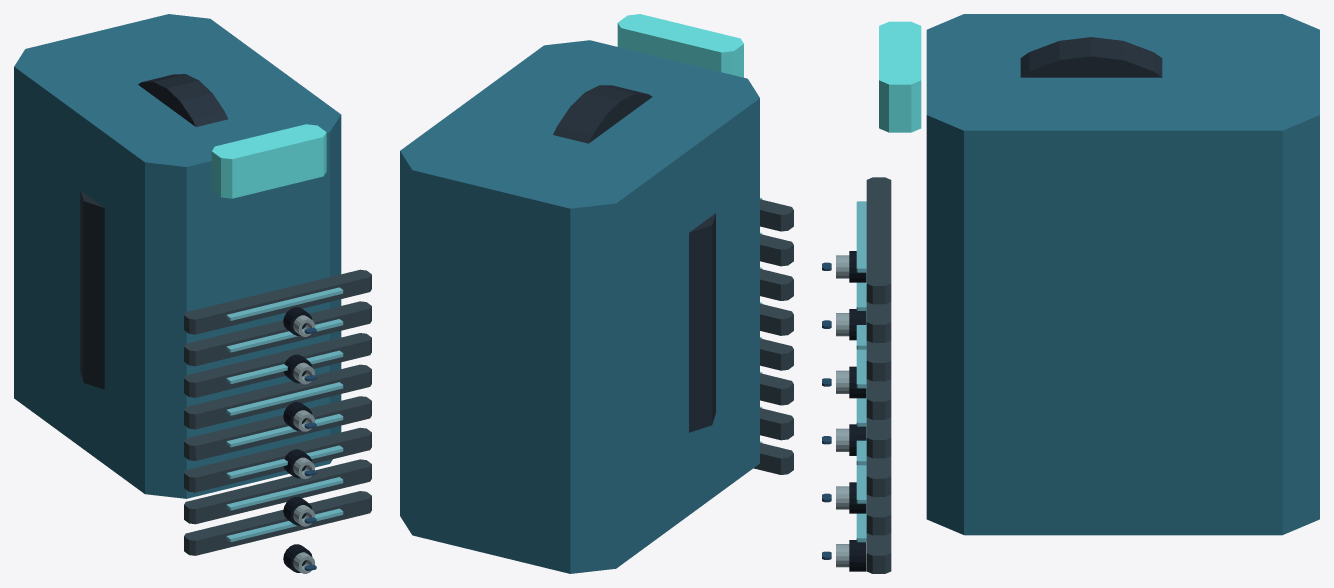
Rendered from enemy_marksman_4k_forearm_r.obj.
The picture shows the model from 3 angles, left to right: view 1: azimuth 30°, elevation 25°; view 2: azimuth 150°, elevation 25°; view 3: azimuth 270°, elevation 25°; orthographic projection. The views are drawn at different scales.
Bounding box in the file's own units: 0.2716 × 0.5318 × 0.4685.
